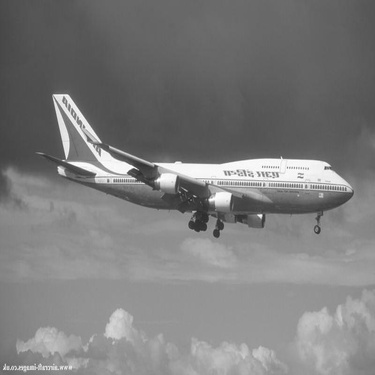airplane: (24, 81, 357, 243)
